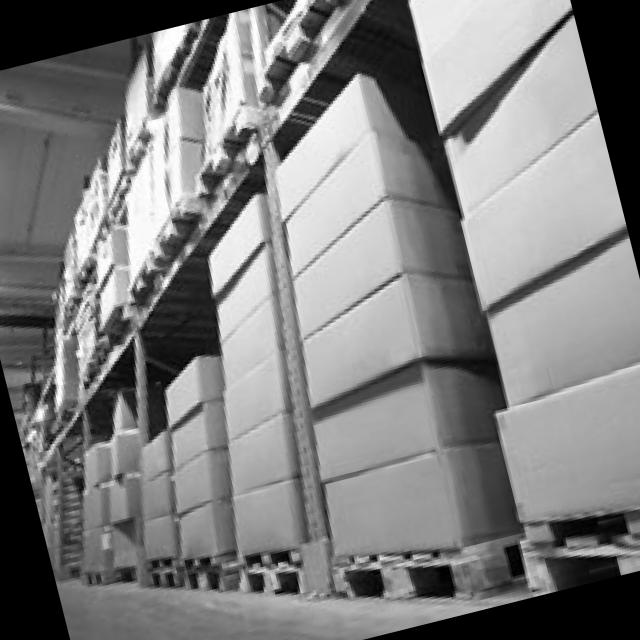ceiling beam: (0, 34, 143, 436)
floor -X: (54, 574, 525, 640)
package: (18, 9, 253, 469), (45, 18, 209, 336), (198, 190, 299, 547), (137, 354, 235, 559), (79, 384, 135, 570), (262, 0, 335, 93), (28, 465, 80, 577)
pallet: (330, 527, 523, 597), (513, 504, 640, 595), (144, 548, 237, 590), (231, 542, 302, 590), (76, 562, 136, 584)
shelves crop: (29, 0, 422, 593)
